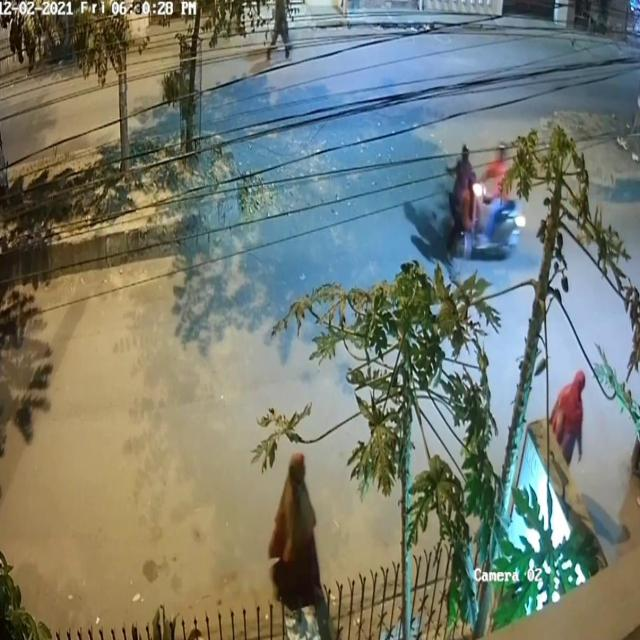accident: (435, 123, 527, 273)
